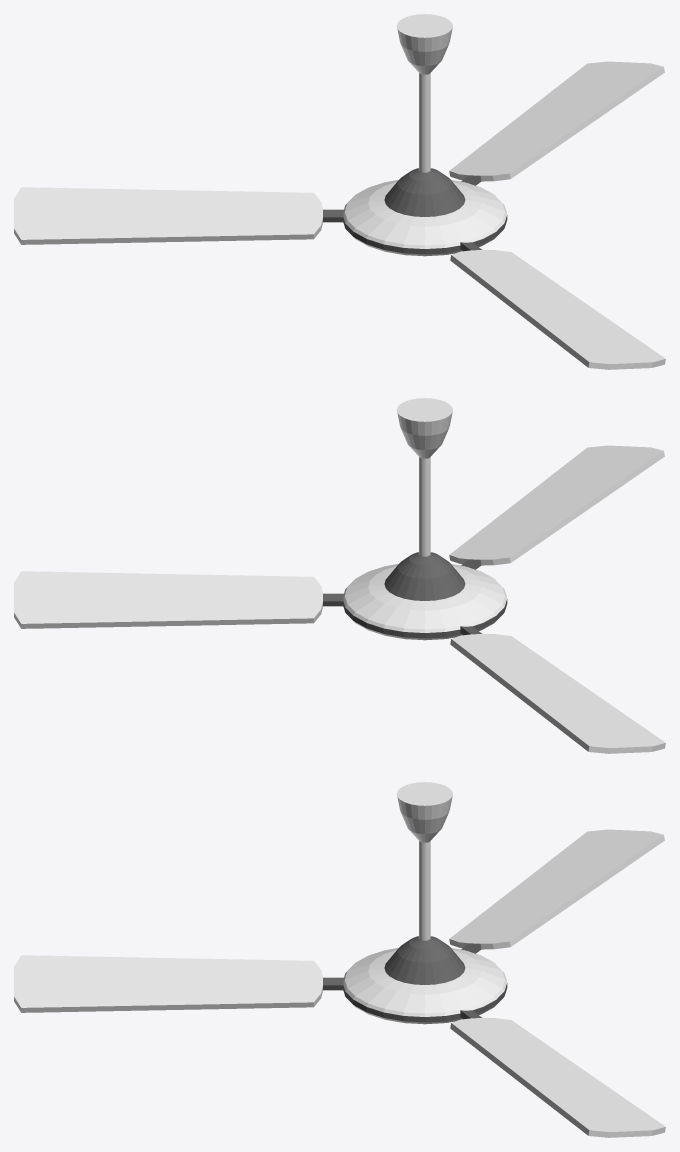
Rendered from 540 Ceiling Fan.gltf.
The picture shows the model from 3 angles, top to bottom: view 1: azimuth 30°, elevation 25°; view 2: azimuth 150°, elevation 25°; view 3: azimuth 270°, elevation 25°; orthographic projection.
Visible parts, largest first — view 1: node-0; view 2: node-0; view 3: node-0.
Part boxes in pixels (bbox=[...]): node-0: bbox=[14, 14, 665, 369]; node-0: bbox=[14, 398, 665, 753]; node-0: bbox=[14, 782, 665, 1137].
Size of the model in its own units: 656 by 207 by 575.
1 material, 1 textured.
